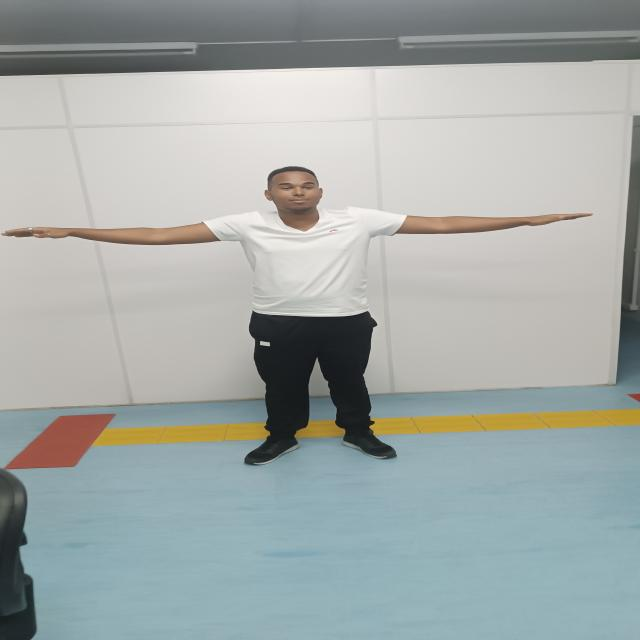takeoff: (4, 166, 592, 465)
